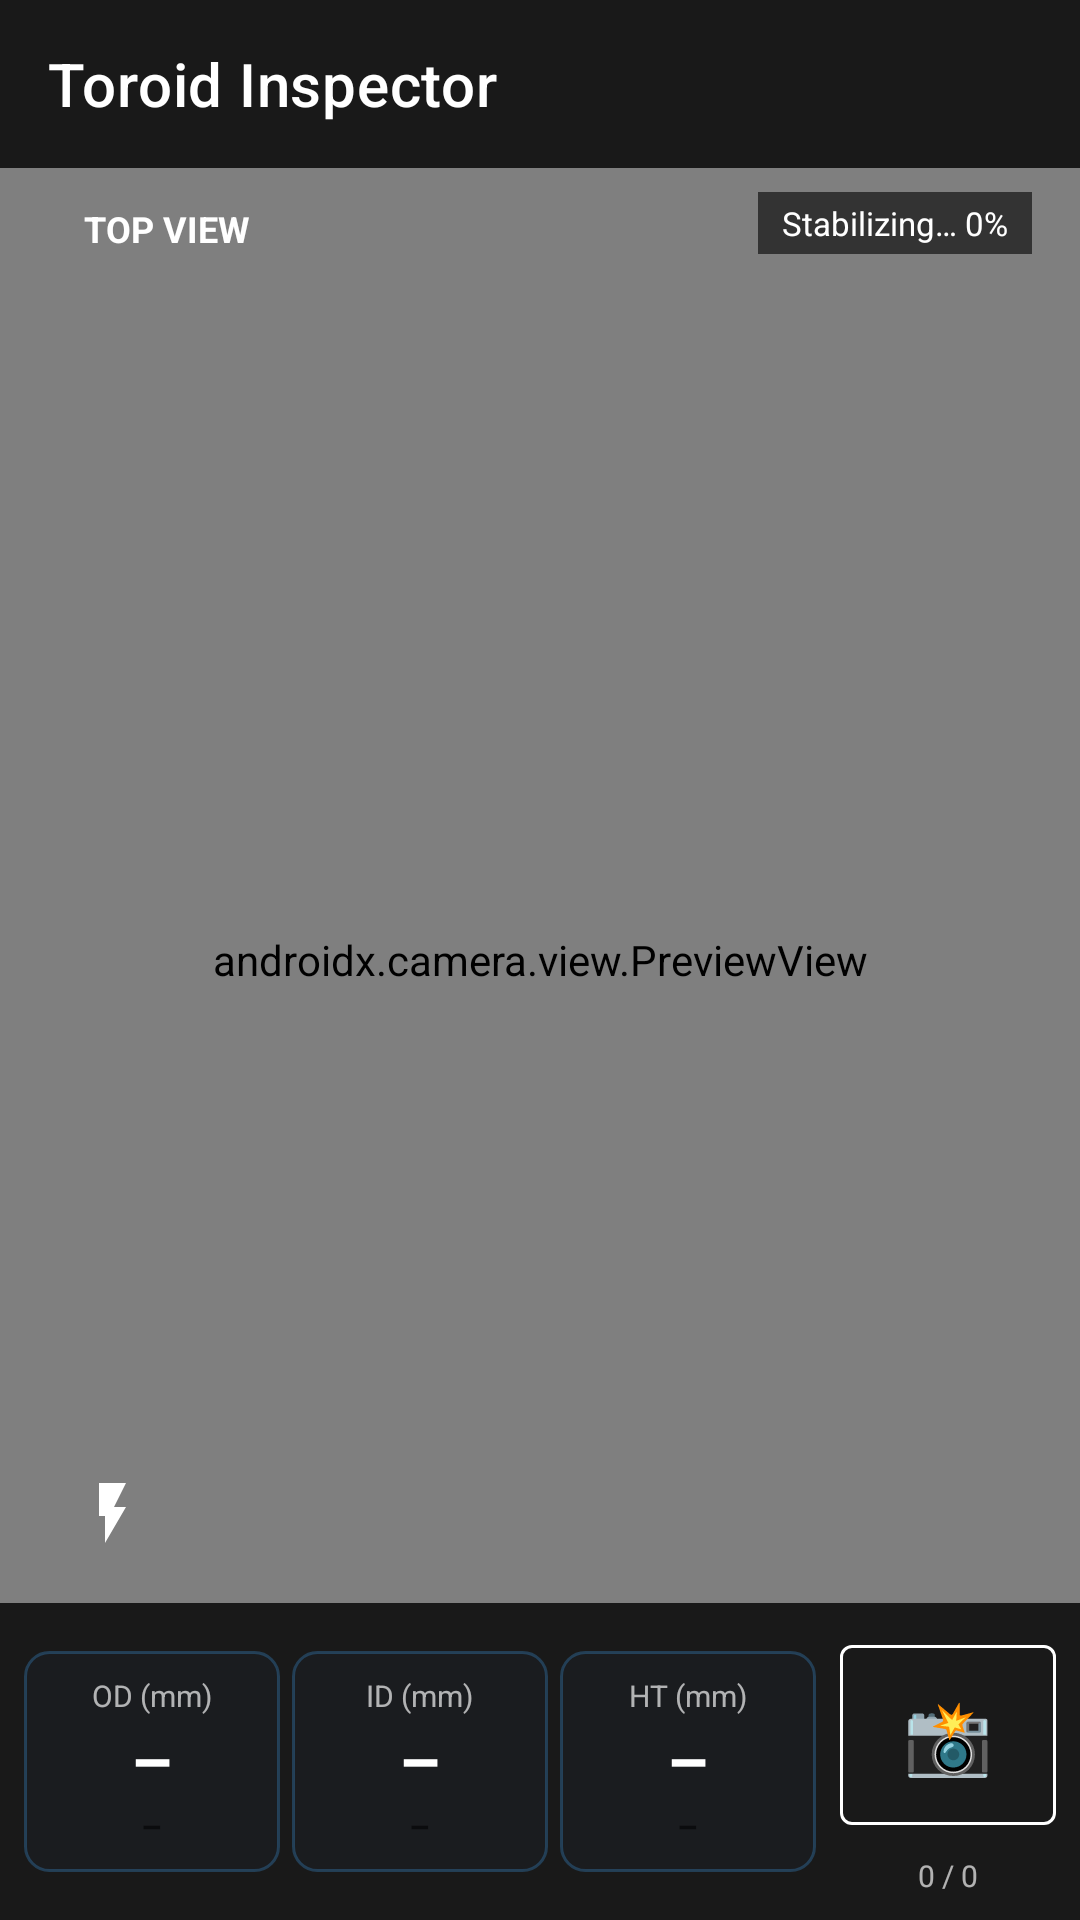

Icon click points for this 1080 × 1920 phone screenshot, format (x,y):
Toggle torch: (112,1513)
